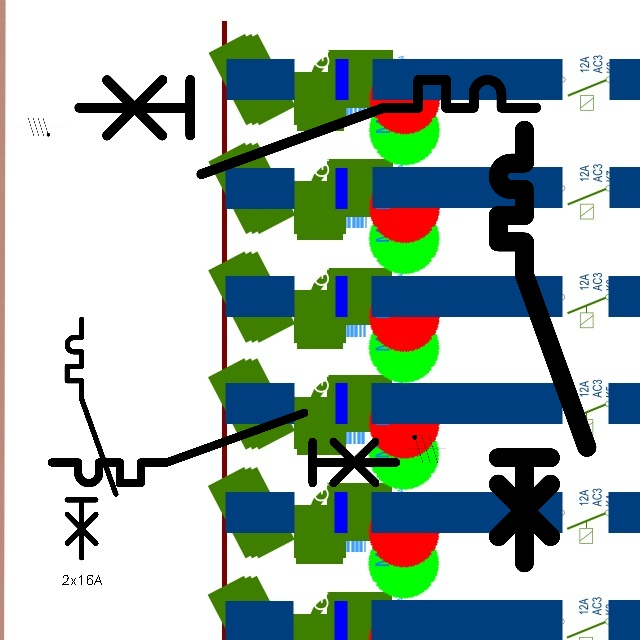interruptor_termomagnetico: (67, 68, 548, 185), (487, 119, 598, 574), (43, 404, 405, 492), (61, 313, 122, 564)
